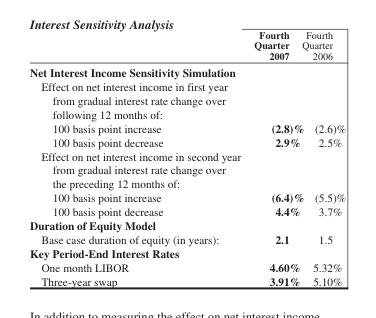table: (29, 28, 345, 287)
table column: (29, 28, 235, 287), (235, 28, 302, 287), (302, 28, 345, 287)
table column header: (29, 28, 345, 63)
table projected row header: (29, 148, 345, 190), (29, 79, 345, 120), (29, 63, 345, 79), (29, 245, 345, 259), (29, 218, 345, 231)
table row: (29, 148, 345, 190), (29, 79, 345, 120), (29, 28, 345, 63), (29, 63, 345, 79), (29, 120, 345, 134), (29, 134, 345, 148), (29, 190, 345, 204), (29, 204, 345, 218), (29, 231, 345, 245), (29, 245, 345, 259), (29, 259, 345, 273), (29, 273, 345, 287), (29, 218, 345, 231)
